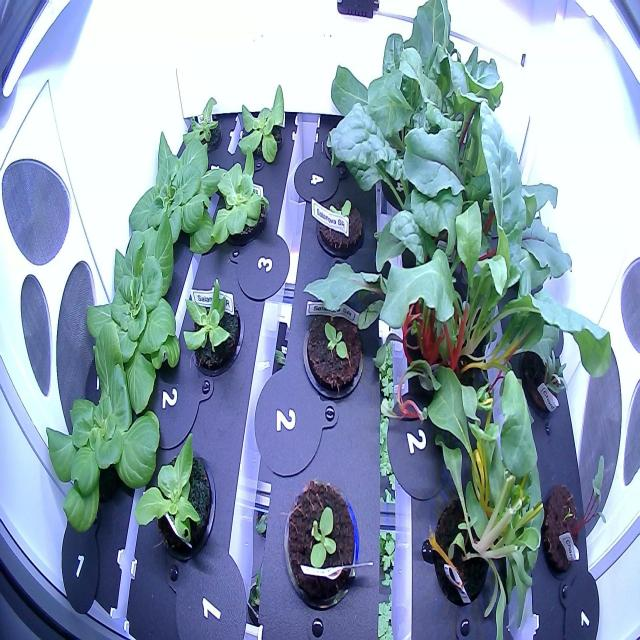germination: (278, 472, 368, 614), (296, 291, 369, 405), (514, 330, 572, 432), (310, 187, 368, 269)
young: (36, 324, 178, 538), (82, 215, 190, 422), (115, 120, 228, 266), (127, 421, 219, 570), (201, 140, 278, 260), (174, 264, 243, 388), (230, 80, 291, 182), (175, 82, 228, 163)
